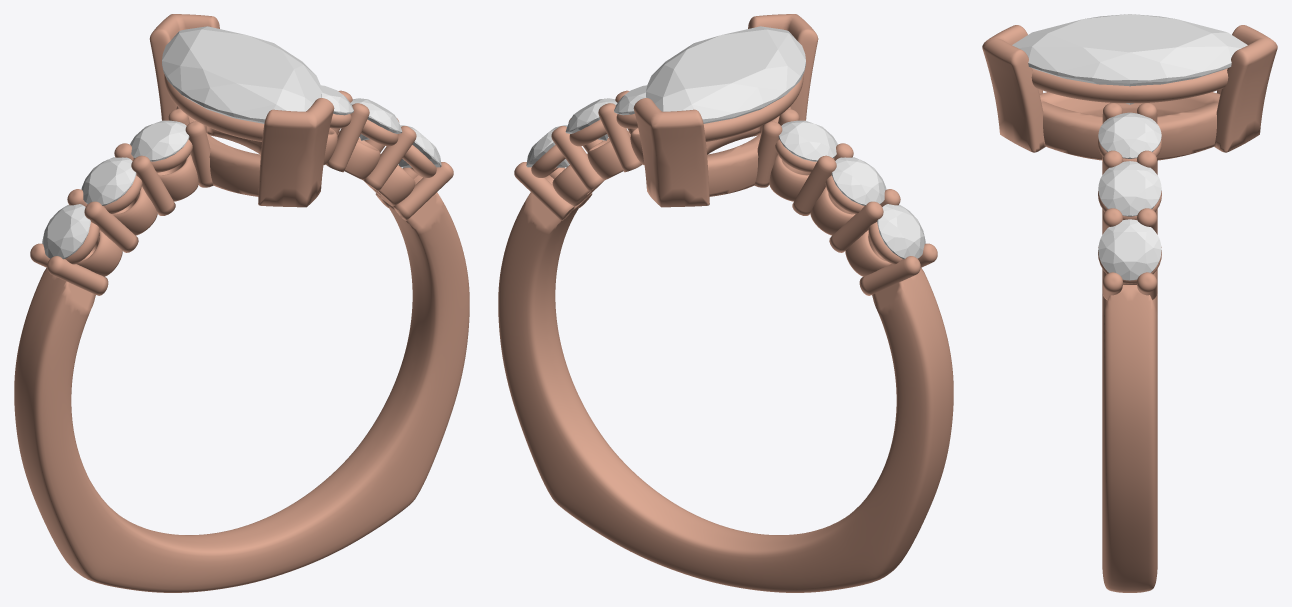
The model's file is diamond-marquise-rosegold-protectededges2prongs-europeanshank-7stone.glb.
3 views of the same model, side by side, from view 1: azimuth 30°, elevation 25°; view 2: azimuth 150°, elevation 25°; view 3: azimuth 270°, elevation 25° (orthographic).
Visible parts, largest first — view 1: metal, stone, side, side.003, side.004, side.006, side.005; view 2: metal, stone, side, side.003, side.004, side.006, side.005; view 3: metal, stone, side.005, side.006, side.007.
Part boxes in pixels (x1,y1,x2,y2): metal: [14, 14, 469, 592]; stone: [162, 26, 321, 123]; side: [42, 204, 90, 259]; side.003: [81, 157, 136, 205]; side.004: [130, 120, 189, 161]; side.006: [350, 98, 402, 140]; side.005: [398, 125, 441, 167]; metal: [498, 14, 953, 592]; stone: [646, 26, 805, 123]; side: [877, 204, 925, 259]; side.003: [831, 157, 886, 205]; side.004: [778, 120, 837, 161]; side.006: [565, 98, 617, 140]; side.005: [526, 125, 569, 167]; metal: [982, 25, 1277, 592]; stone: [1012, 14, 1247, 104]; side.005: [1098, 219, 1161, 280]; side.006: [1098, 161, 1161, 216]; side.007: [1098, 112, 1161, 158].
Bounding box in the file's own units: 20.11 × 22.73 × 11.69.
